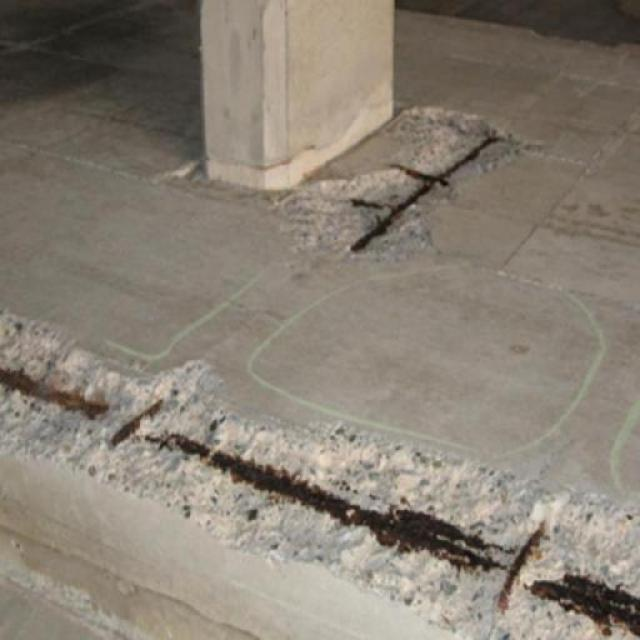D0w0: (0, 310, 639, 639), (278, 108, 519, 256)
